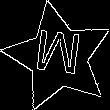M_S: (32, 29, 85, 85)
